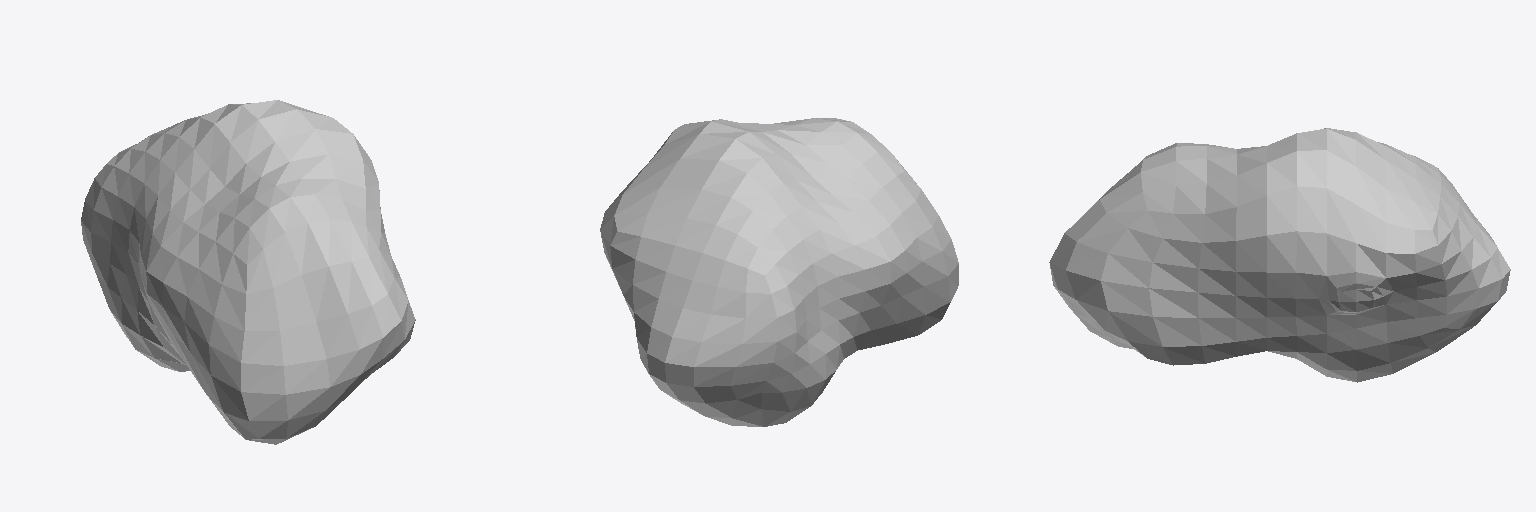
Rendered from cloud3.obj.
3 views of the same model, side by side, from view 1: azimuth 30°, elevation 25°; view 2: azimuth 150°, elevation 25°; view 3: azimuth 270°, elevation 25° (orthographic).
Parts seen in each view (by area): view 1: Cloud.002_Cube.009; view 2: Cloud.002_Cube.009; view 3: Cloud.002_Cube.009.
Part boxes in pixels (x1,y1,x2,y2): Cloud.002_Cube.009: (81,100,415,444); Cloud.002_Cube.009: (600,118,958,426); Cloud.002_Cube.009: (1049,128,1510,382).
Size of the model in its own units: 3.07 by 3.32 by 5.27.